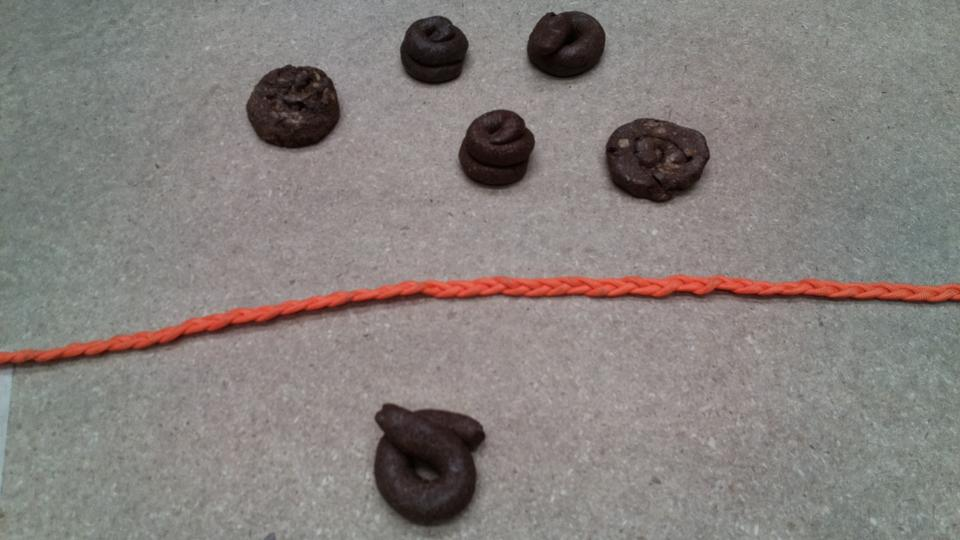poop: (366, 390, 498, 530), (602, 113, 714, 206), (249, 62, 356, 157), (455, 107, 542, 193), (524, 6, 607, 81), (395, 17, 474, 89)
rope: (365, 270, 960, 328), (3, 312, 231, 381), (220, 288, 433, 356)
